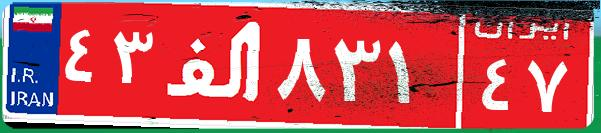1: (385, 28, 445, 110)
3: (330, 28, 385, 110), (110, 28, 158, 105)
4: (57, 26, 110, 107), (475, 38, 525, 113)
7: (525, 38, 570, 115)
8: (273, 28, 330, 110)
الف: (158, 15, 273, 115)
